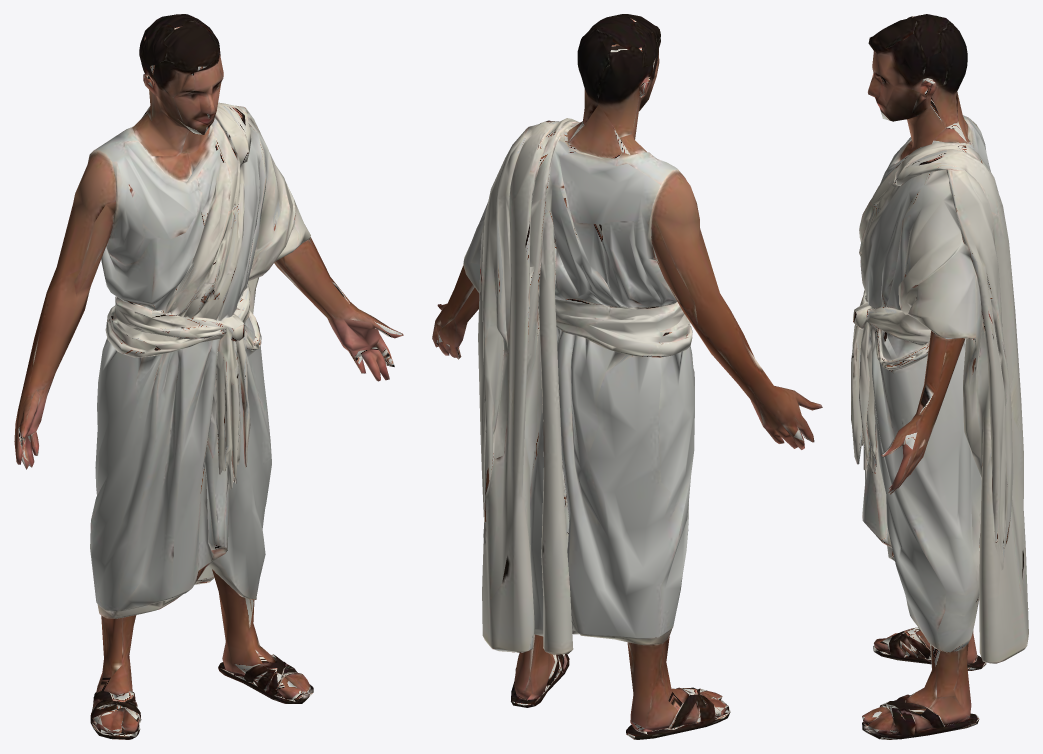
File: cuestor.glb
3 renders of one model, left to right at view 1: azimuth 30°, elevation 25°; view 2: azimuth 150°, elevation 25°; view 3: azimuth 270°, elevation 25°, orthographic. The views are drawn at different scales.
Parts seen in each view (by area): view 1: cuestor; view 2: cuestor; view 3: cuestor.
Boxes of the visible parts, x1,y1,x2,y2 form: cuestor: (14,14,403,739); cuestor: (432,14,822,739); cuestor: (851,14,1028,739).
Bounding box in the file's own units: 1.05 × 1.8 × 0.4331.
Materials: 1 (1 with a texture image).
